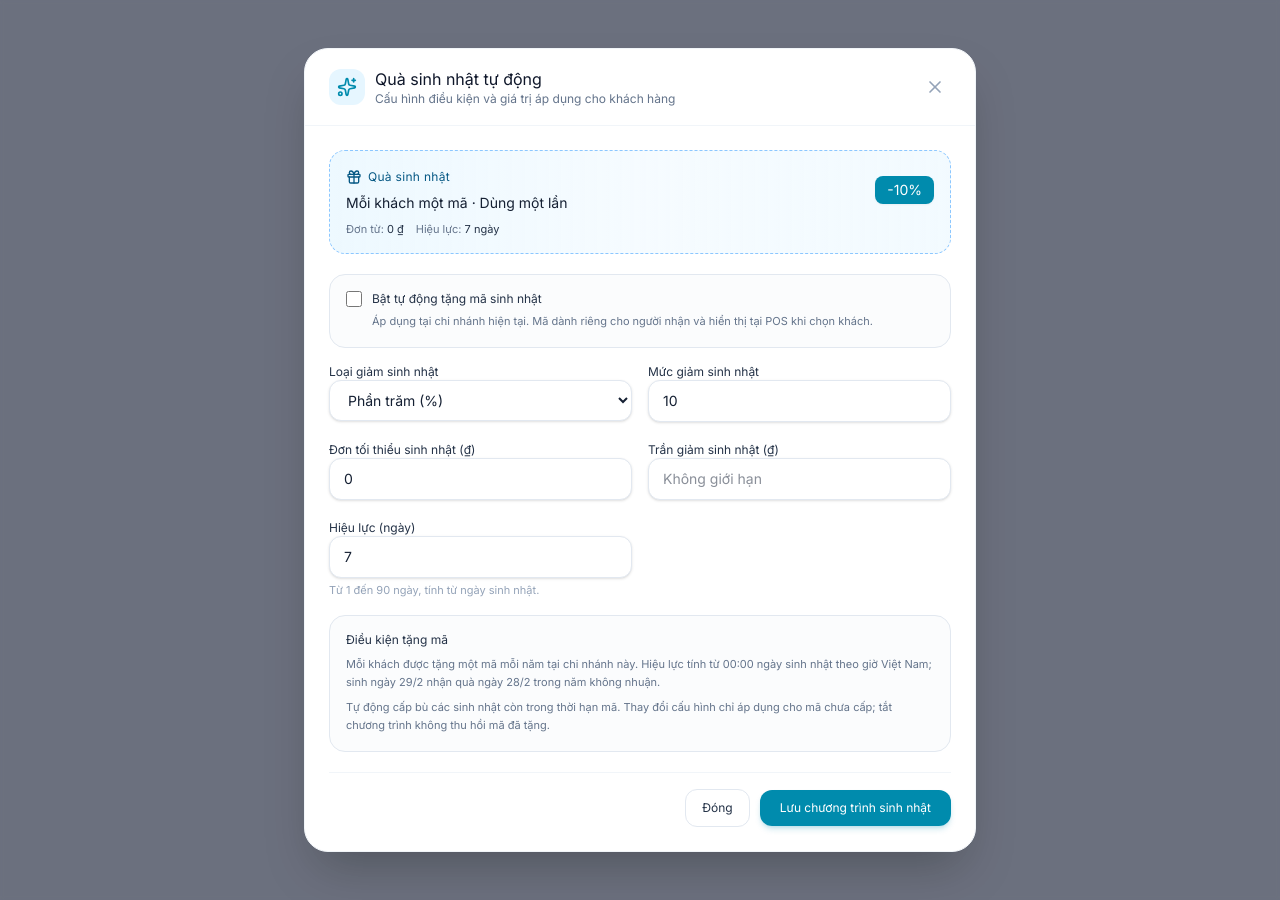
keeps birthday settings editable when saving fails
The width and height of the screenshot is (1280, 900).
Expected: the number field labelled "Hiệu lực (ngày)" is shown, [329,536,632,578]
Click the button "Lưu chương trình sinh nhật" at coordinates (855, 808), box [760,790,951,826]
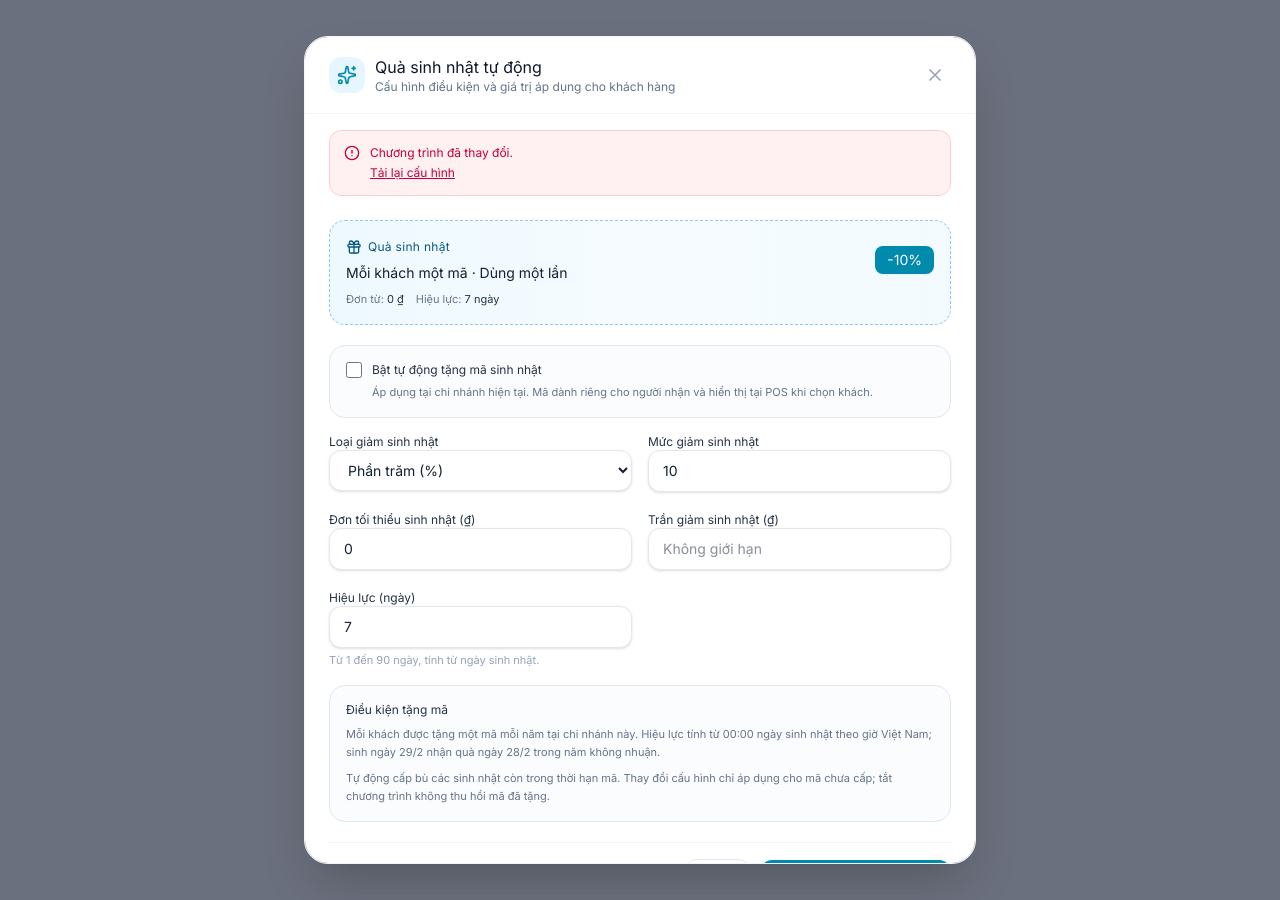
Result: the message shows "đã thay đổi" at [370,145,513,160]
